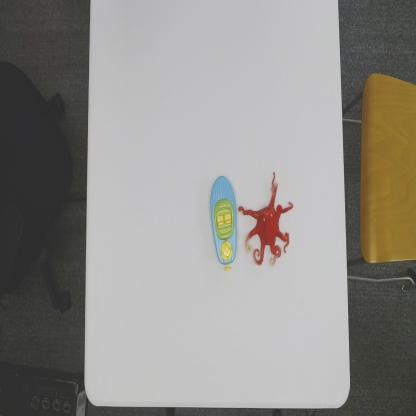Boat: (209, 174, 238, 273)
Octopus: (237, 171, 294, 268)
